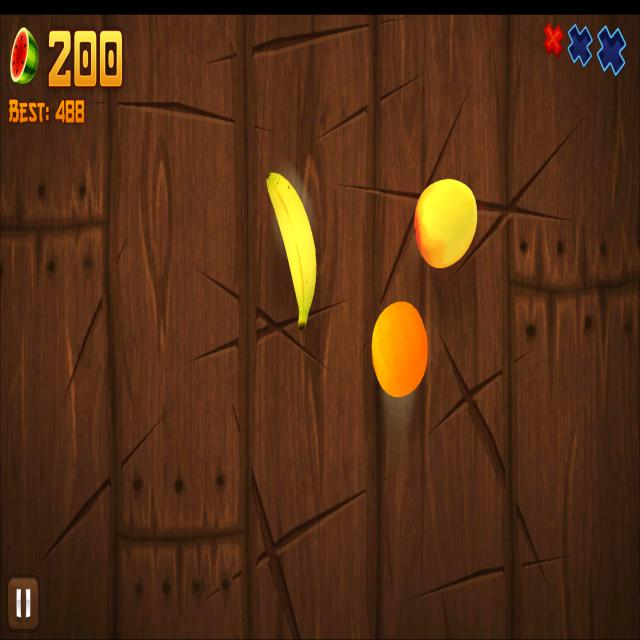fruit: (266, 170, 317, 331), (414, 177, 478, 268), (371, 301, 429, 398)
